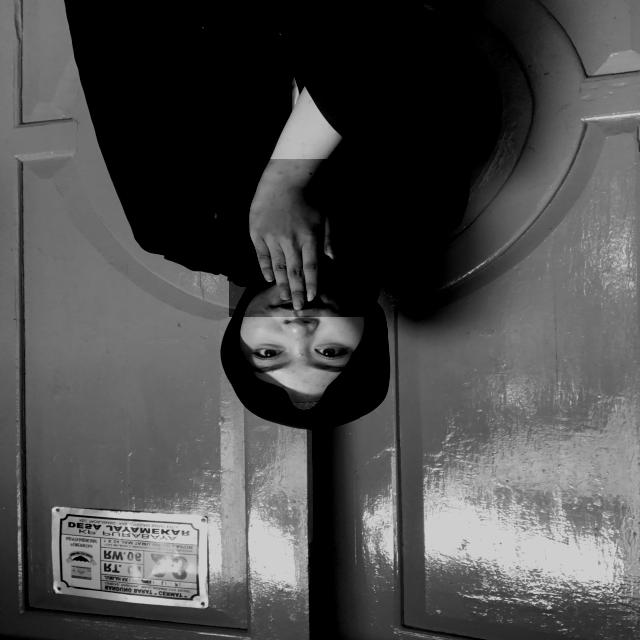ganteng: (229, 159, 364, 317)
